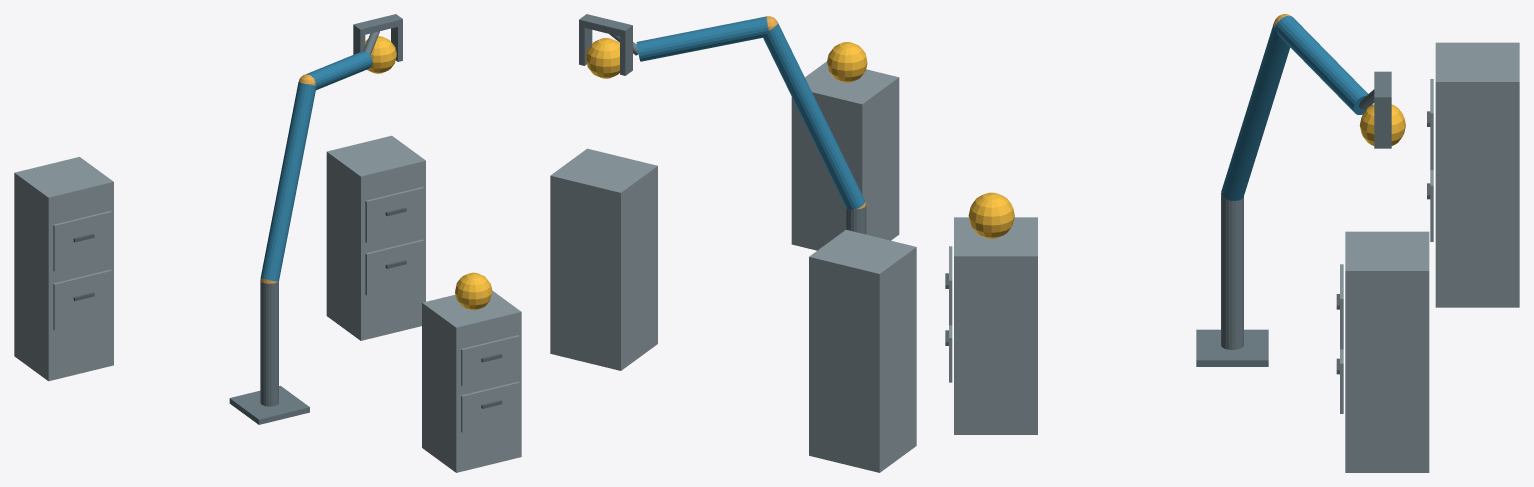
The picture shows the model from 3 angles, left to right: view 1: azimuth 30°, elevation 25°; view 2: azimuth 150°, elevation 25°; view 3: azimuth 270°, elevation 25°; orthographic projection. The views are drawn at different scales.
Visible parts, largest first — view 1: cabinet_3 body, cabinet_2 body, cabinet_1 body, moving link 1, cabinet_3 drawer front, cabinet_3 drawer front.001, cabinet_2 drawer front, cabinet_2 drawer front.001, fixed post, cabinet_1 drawer front, cabinet_1 drawer front.001, pedestal (+4 smaller); view 2: cabinet_3 body, cabinet_2 body, cabinet_1 body, moving link 1, moving link 2, released ball_1, ball ball_2, gripper bridge, fixed post, gripper finger -1, gripper finger 1; view 3: cabinet_3 body, cabinet_2 body, cabinet_1 body, moving link 1, fixed post, moving link 2, pedestal, released ball_1, ball ball_2, gripper finger 1, gripper bridge.
Part boxes in pixels (x1,y1,x2,y2): cabinet_3 body: [14, 157, 113, 381]; cabinet_2 body: [326, 135, 425, 340]; cabinet_1 body: [422, 290, 521, 472]; moving link 1: [260, 82, 316, 281]; cabinet_3 drawer front: [53, 269, 111, 330]; cabinet_3 drawer front.001: [53, 211, 111, 271]; cabinet_2 drawer front: [365, 239, 424, 295]; cabinet_2 drawer front.001: [365, 187, 424, 242]; fixed post: [260, 279, 278, 406]; cabinet_1 drawer front: [461, 381, 519, 432]; cabinet_1 drawer front.001: [461, 335, 519, 386]; pedestal: [229, 385, 309, 424]; cabinet_3 body: [809, 230, 916, 472]; cabinet_2 body: [550, 148, 657, 370]; cabinet_1 body: [791, 61, 899, 250]; moving link 1: [763, 22, 865, 209]; moving link 2: [636, 16, 768, 61]; released ball_1: [827, 42, 867, 82]; ball ball_2: [586, 38, 619, 78]; gripper bridge: [579, 14, 632, 37]; fixed post: [846, 204, 866, 234]; gripper finger -1: [620, 32, 632, 75]; gripper finger 1: [579, 26, 592, 65]; cabinet_3 body: [1435, 42, 1519, 307]; cabinet_2 body: [1345, 231, 1429, 472]; cabinet_1 body: [954, 217, 1037, 434]; moving link 1: [1221, 22, 1290, 200]; fixed post: [1221, 195, 1243, 349]; moving link 2: [1275, 16, 1372, 114]; pedestal: [1196, 329, 1268, 366]; released ball_1: [968, 192, 1014, 238]; ball ball_2: [1359, 104, 1405, 145]; gripper finger 1: [1374, 105, 1391, 148]; gripper bridge: [1374, 71, 1391, 105].
Bounding box in the file's own units: 1.67 × 1.42 × 1.98.
